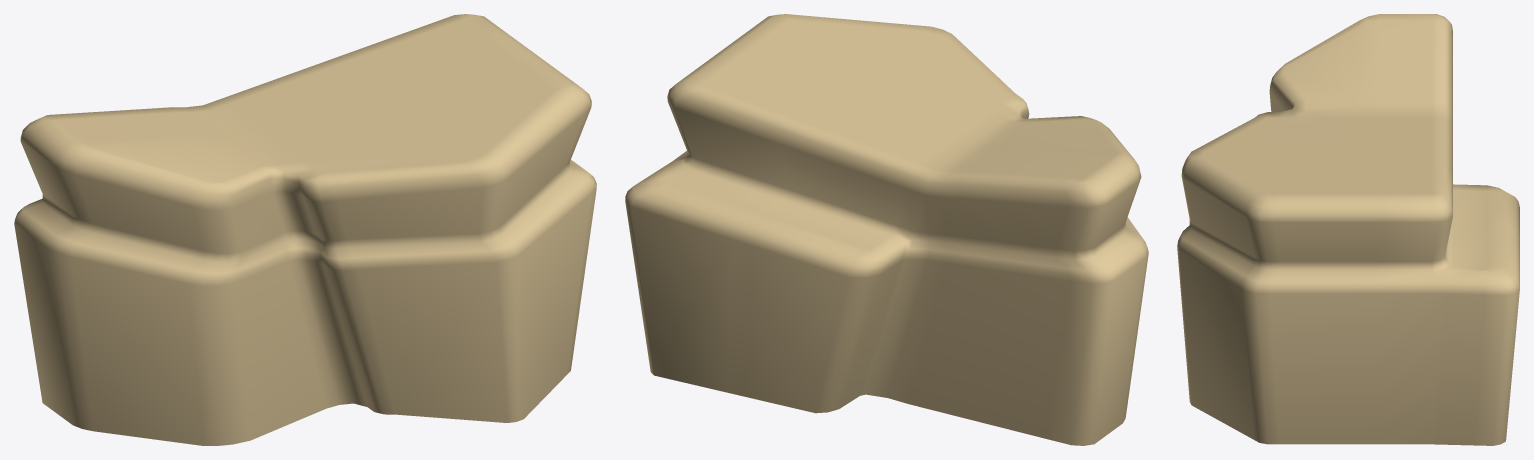
The model's file is Rock01_MESH.FBX.
The picture shows the model from 3 angles, left to right: view 1: azimuth 30°, elevation 25°; view 2: azimuth 150°, elevation 25°; view 3: azimuth 270°, elevation 25°; orthographic projection. The views are drawn at different scales.
Parts seen in each view (by area): view 1: Rock01_low; view 2: Rock01_low; view 3: Rock01_low.
Boxes of the visible parts, left/top/right/bottom form: Rock01_low: left=14, top=14, right=596, bottom=445; Rock01_low: left=625, top=14, right=1148, bottom=445; Rock01_low: left=1177, top=14, right=1519, bottom=445.
Bounding box in the file's own units: 1000 × 559 × 705.
